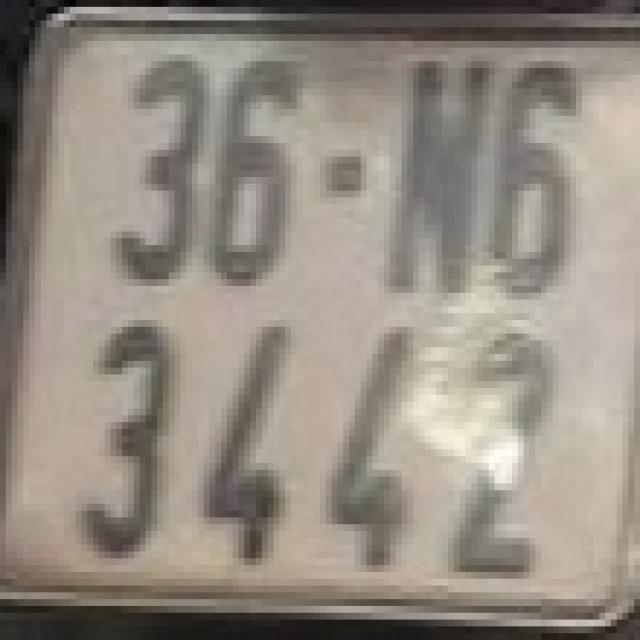2: (442, 327, 553, 579)
3: (76, 313, 174, 558), (110, 48, 204, 286)
4: (326, 320, 414, 572), (204, 320, 292, 565)
6: (489, 54, 582, 300), (210, 48, 302, 286)
N: (375, 48, 492, 306)
